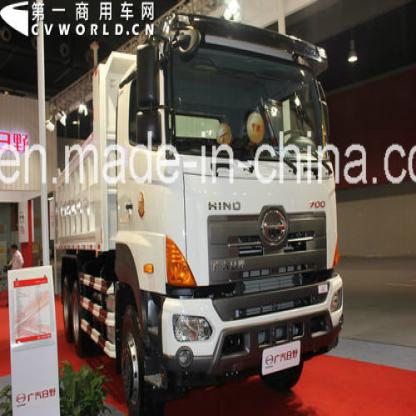dump_truck: (43, 20, 356, 407)
